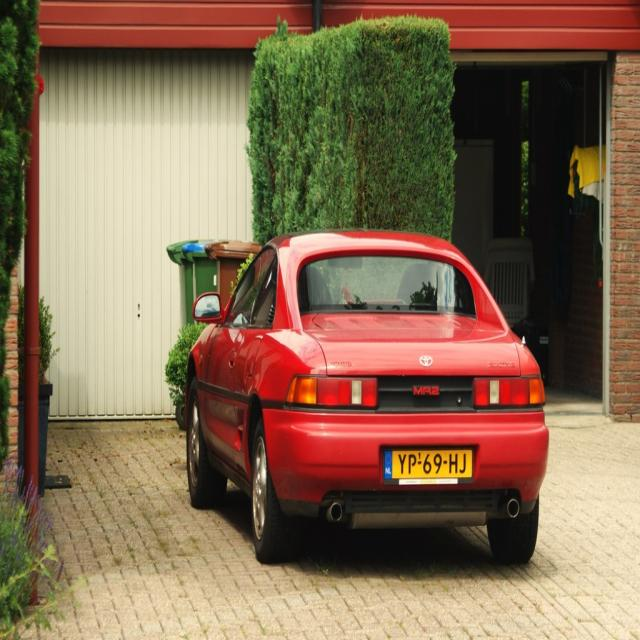car: (174, 220, 550, 554)
